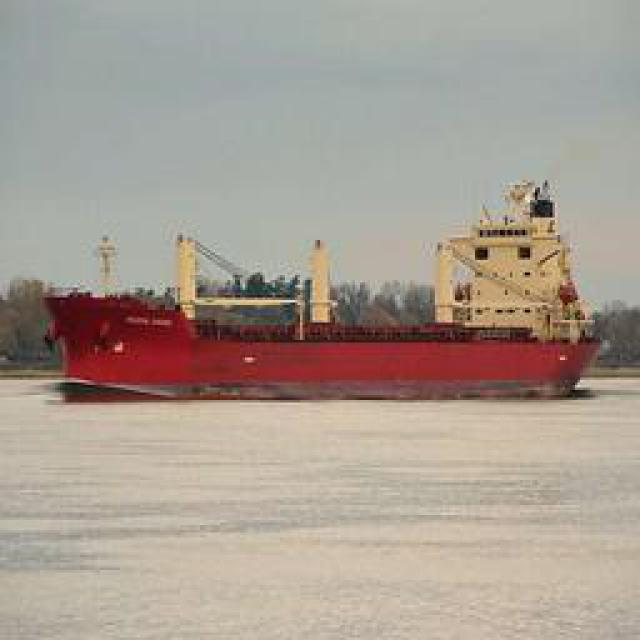Ship: (40, 180, 605, 400)
